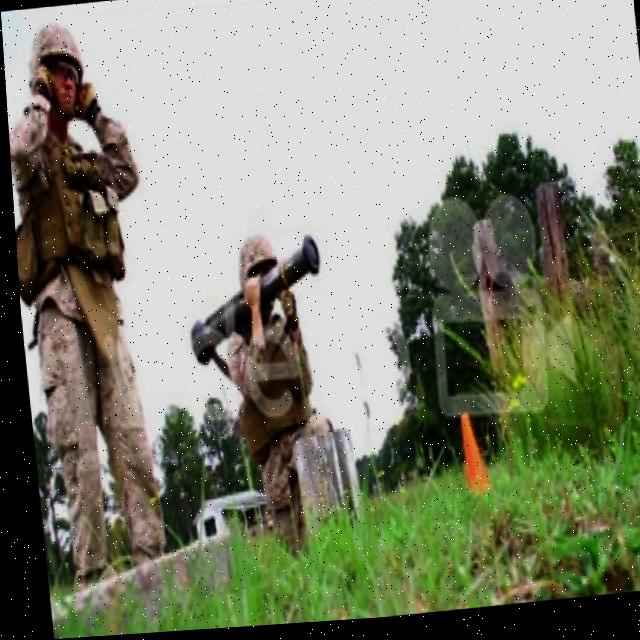rocket: (176, 228, 327, 378)
